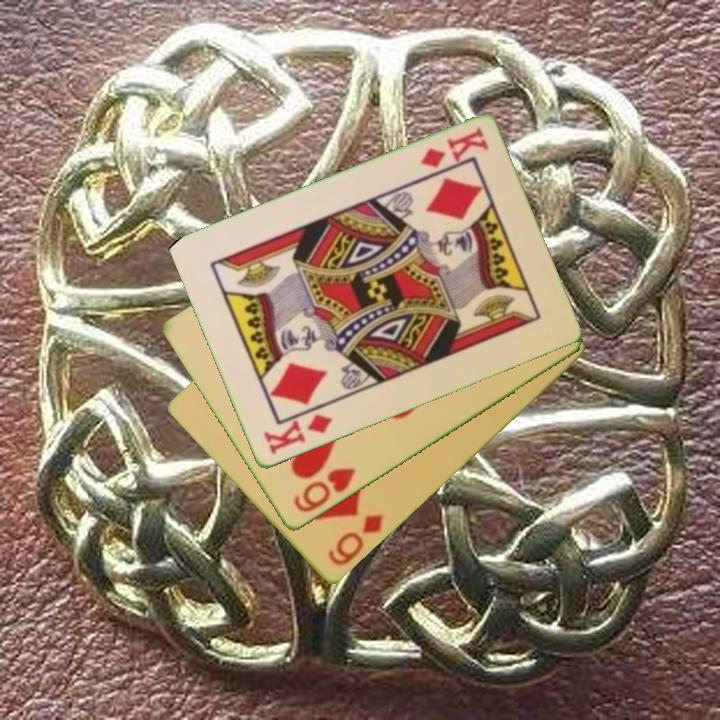6d: (324, 511, 387, 569)
6h: (290, 465, 359, 516)
Kd: (260, 410, 335, 459), (416, 124, 491, 172)
